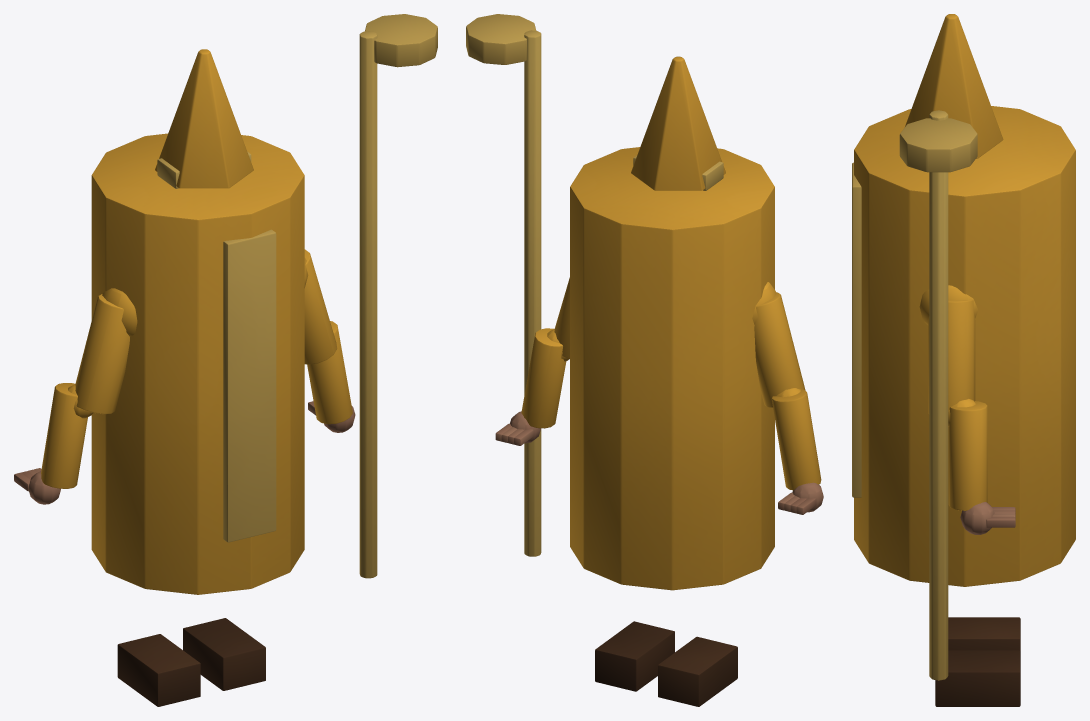
File: unit_church_high_priest.fbx
The picture shows the model from 3 angles, left to right: view 1: azimuth 30°, elevation 25°; view 2: azimuth 150°, elevation 25°; view 3: azimuth 270°, elevation 25°; orthographic projection. The views are drawn at different scales.
Visible parts, largest first — view 1: unit_church_high_priest; view 2: unit_church_high_priest; view 3: unit_church_high_priest.
Boxes of the visible parts, left/top/right/bottom form: unit_church_high_priest: left=14, top=14, right=437, bottom=706; unit_church_high_priest: left=466, top=14, right=823, bottom=706; unit_church_high_priest: left=852, top=14, right=1075, bottom=706.
Size of the model in its own units: 1.41 by 2.24 by 0.6843.
